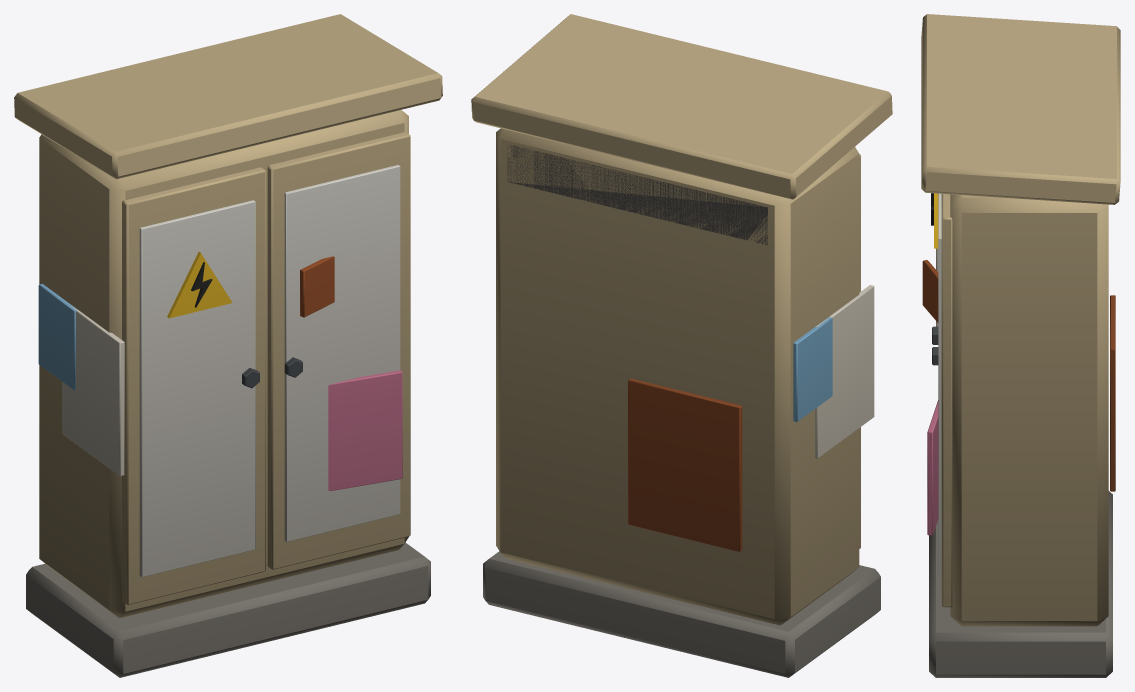
File: 09_armoire_electrique.fbx
3 views of the same model, side by side, from view 1: azimuth 30°, elevation 25°; view 2: azimuth 150°, elevation 25°; view 3: azimuth 270°, elevation 25° (orthographic). The views are drawn at different scales.
Parts seen in each view (by area): view 1: Caisson, PorteDroite, PorteGauche; view 2: Caisson; view 3: Caisson, PorteDroite, PorteGauche.
Part boxes in pixels (x1,y1,x2,y2): Caisson: [14, 14, 442, 677]; PorteDroite: [267, 131, 410, 569]; PorteGauche: [122, 167, 265, 605]; Caisson: [471, 14, 892, 677]; Caisson: [921, 14, 1120, 677]; PorteDroite: [922, 193, 952, 607]; PorteGauche: [931, 193, 938, 344].
Size of the model in its own units: 0.728 by 1.12 by 0.392.
1 material, 1 textured.
